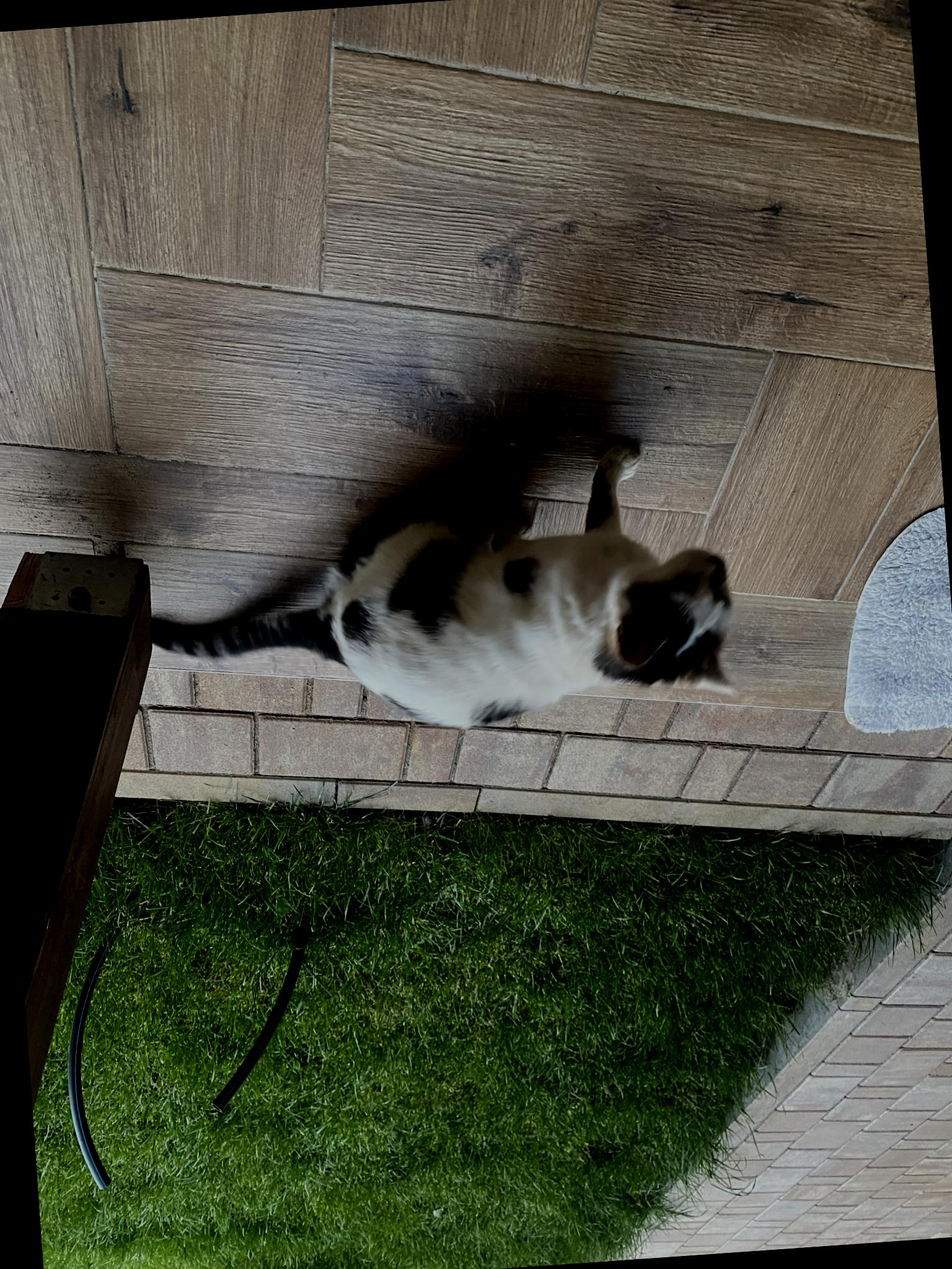macka: (143, 431, 743, 751)
